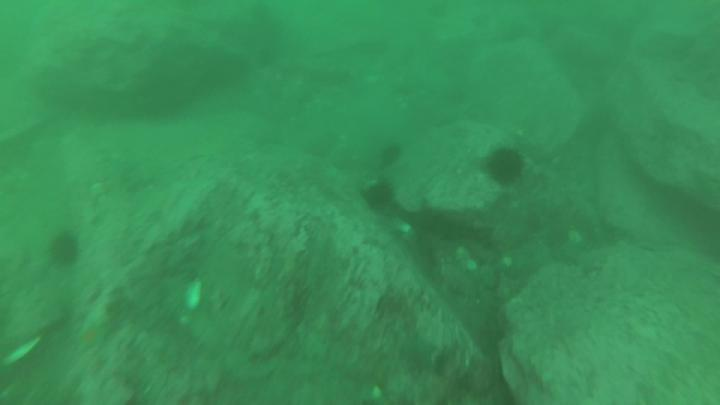echinus: (482, 142, 528, 190), (43, 233, 83, 269), (359, 178, 398, 212), (379, 144, 404, 171)
starfish: (74, 317, 113, 361)
